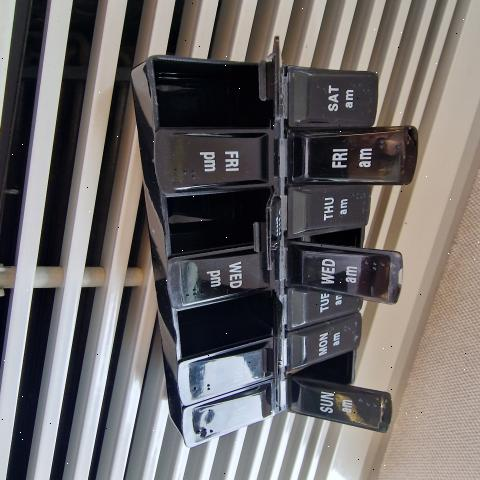Open: (151, 35, 278, 132), (164, 190, 268, 266), (180, 290, 275, 356), (292, 222, 401, 255), (287, 353, 357, 384)
